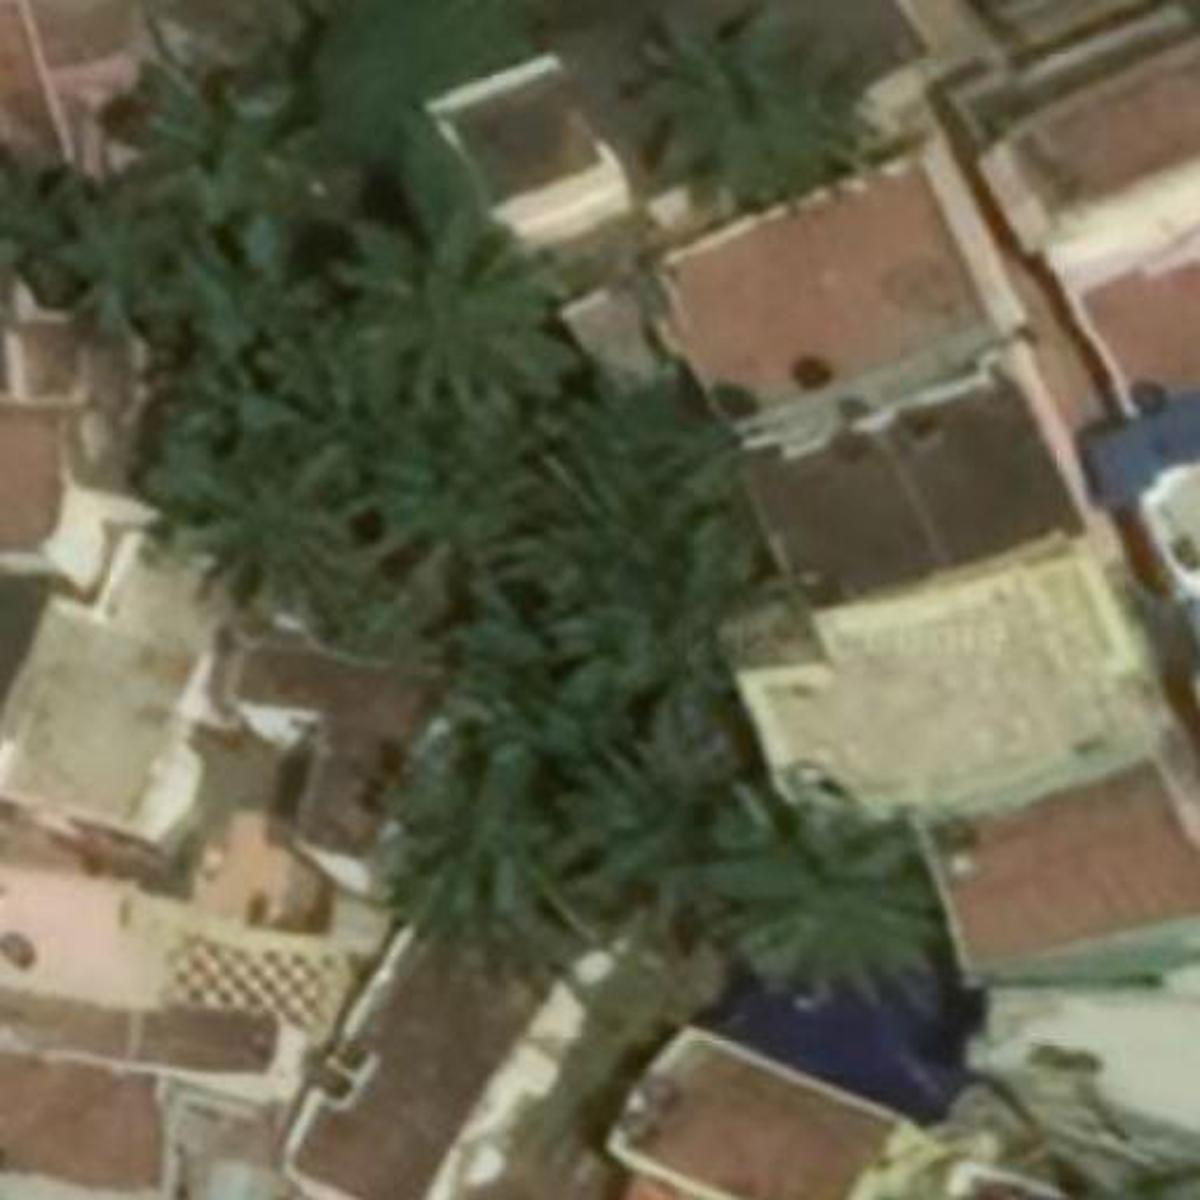coconut: (327, 215, 588, 414), (635, 11, 897, 208), (138, 51, 353, 260), (689, 827, 942, 1000), (389, 742, 585, 958), (546, 766, 778, 944), (522, 431, 733, 621), (162, 454, 389, 627), (464, 642, 667, 816), (363, 431, 560, 607), (32, 173, 199, 309), (180, 332, 344, 464)
